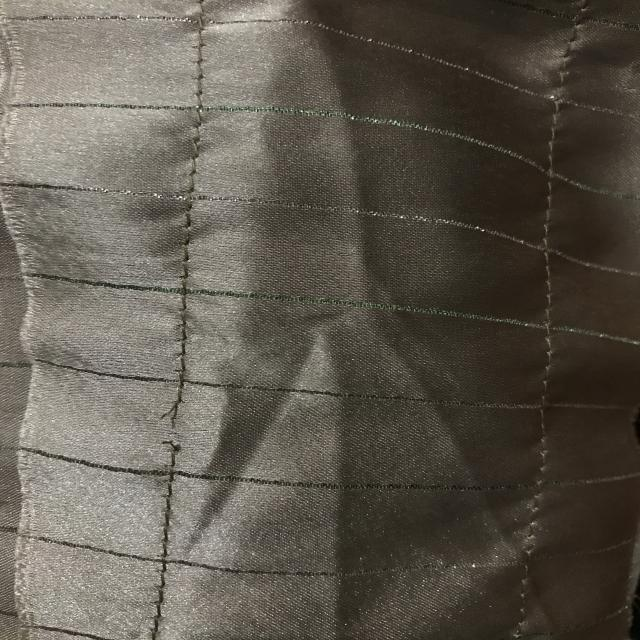broken: (138, 395, 213, 468)
good: (172, 109, 213, 266), (159, 487, 186, 593)
